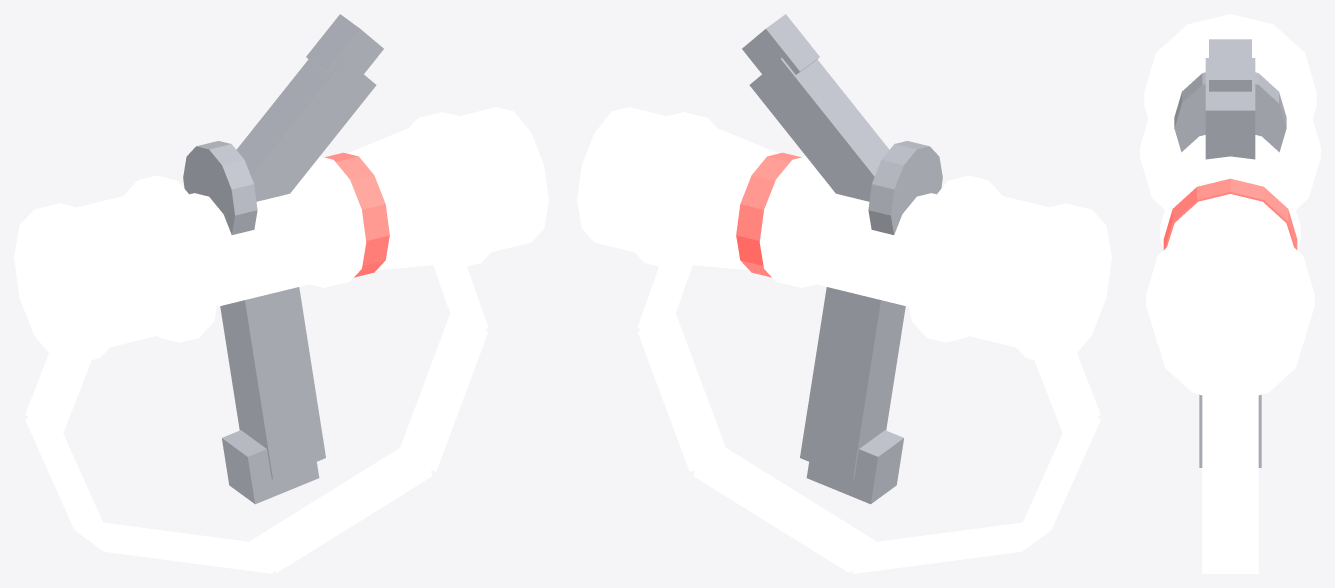
3 views of the same model, side by side, from view 1: azimuth 30°, elevation 25°; view 2: azimuth 150°, elevation 25°; view 3: azimuth 270°, elevation 25° (orthographic). The views are drawn at different scales.
Parts seen in each view (by area): view 1: Gun_Metal, Gun_Rubber, Gun_Strap, Gun_Band; view 2: Gun_Metal, Gun_Rubber, Gun_Strap, Gun_Band; view 3: Gun_Metal, Gun_Strap, Gun_Rubber, Gun_Band.
Boxes of the visible parts, x1=… form: Gun_Metal: x1=14, y1=107, x2=548, y2=364; Gun_Rubber: x1=183, y1=14, x2=383, y2=504; Gun_Strap: x1=25, y1=264, x2=488, y2=573; Gun_Band: x1=324, y1=152, x2=389, y2=277; Gun_Metal: x1=577, y1=107, x2=1111, y2=364; Gun_Rubber: x1=742, y1=14, x2=942, y2=504; Gun_Strap: x1=637, y1=264, x2=1100, y2=573; Gun_Band: x1=736, y1=152, x2=801, y2=277; Gun_Metal: x1=1140, y1=14, x2=1320, y2=401; Gun_Strap: x1=1202, y1=395, x2=1258, y2=573; Gun_Rubber: x1=1174, y1=39, x2=1286, y2=467; Gun_Band: x1=1163, y1=178, x2=1297, y2=249.
Size of the model in its own units: 0.5494 by 0.5751 by 0.168.
